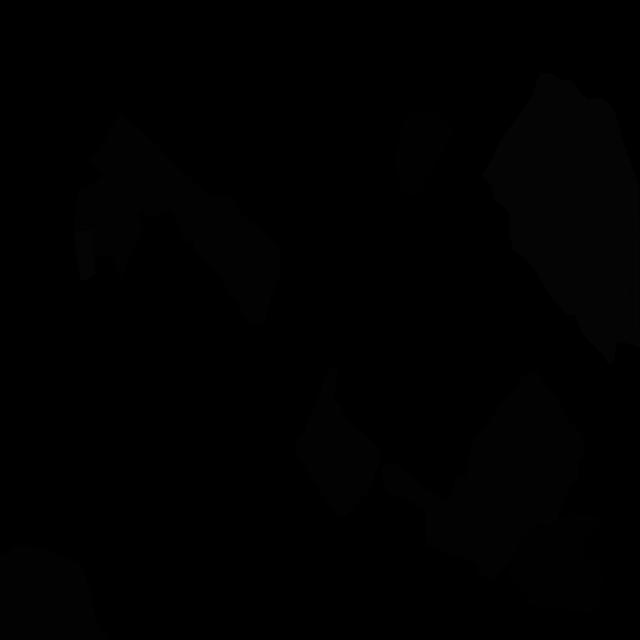cardboard: (380, 371, 585, 581), (90, 112, 280, 327), (294, 363, 382, 519), (0, 544, 110, 639), (73, 173, 144, 278)
rigid_plastic: (508, 513, 606, 614), (394, 110, 454, 196)
soft_plastic: (482, 73, 640, 315), (576, 238, 640, 364), (73, 228, 96, 281)
